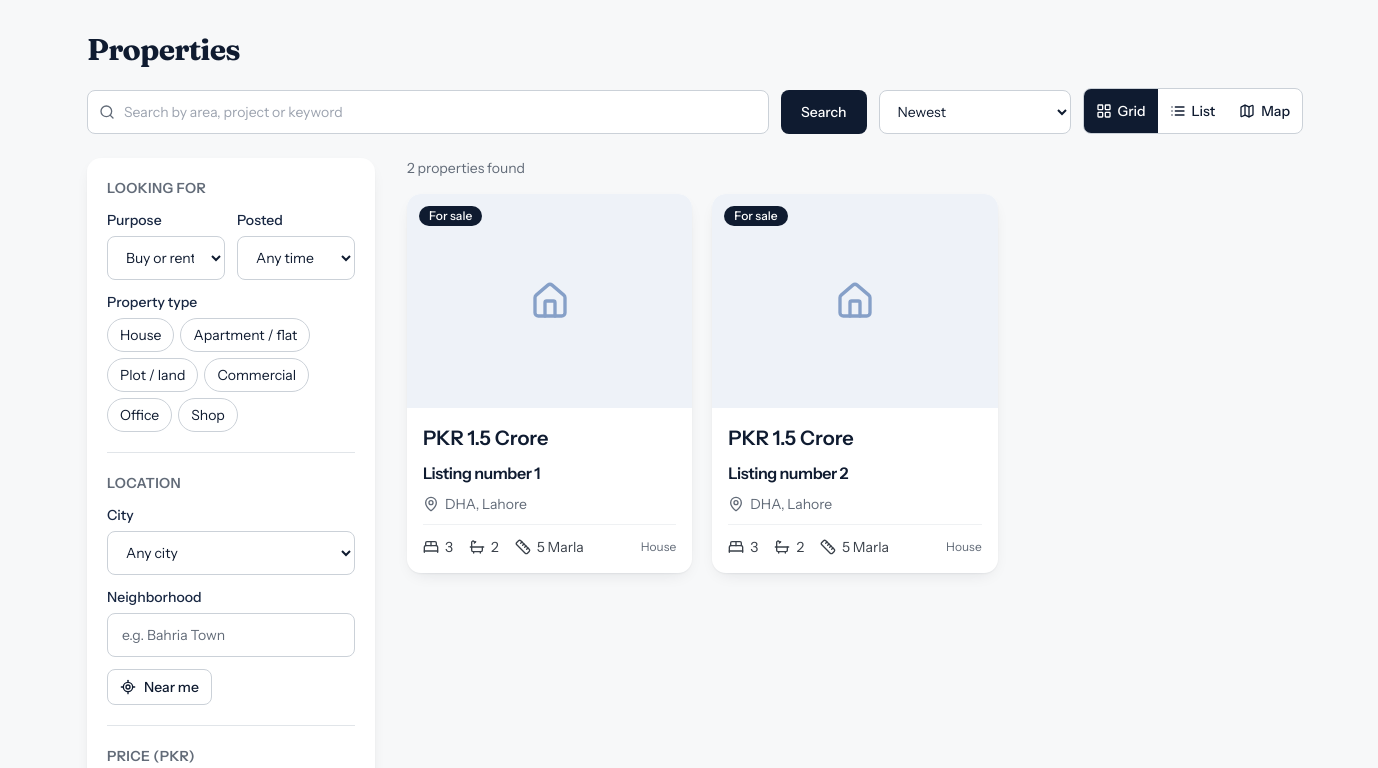
Test case: search page › searching by keyword and changing the view and sort are reflected in the URL
The image size is (1378, 768).
Expected: the link "Listing number 1" is shown, top-left (423, 463), bottom-right (540, 483)
Type "bahria villa" into the search field named "Search properties" at {"x": 428, "y": 112}, box top-left (87, 90), bottom-right (769, 134)
Then press Enter
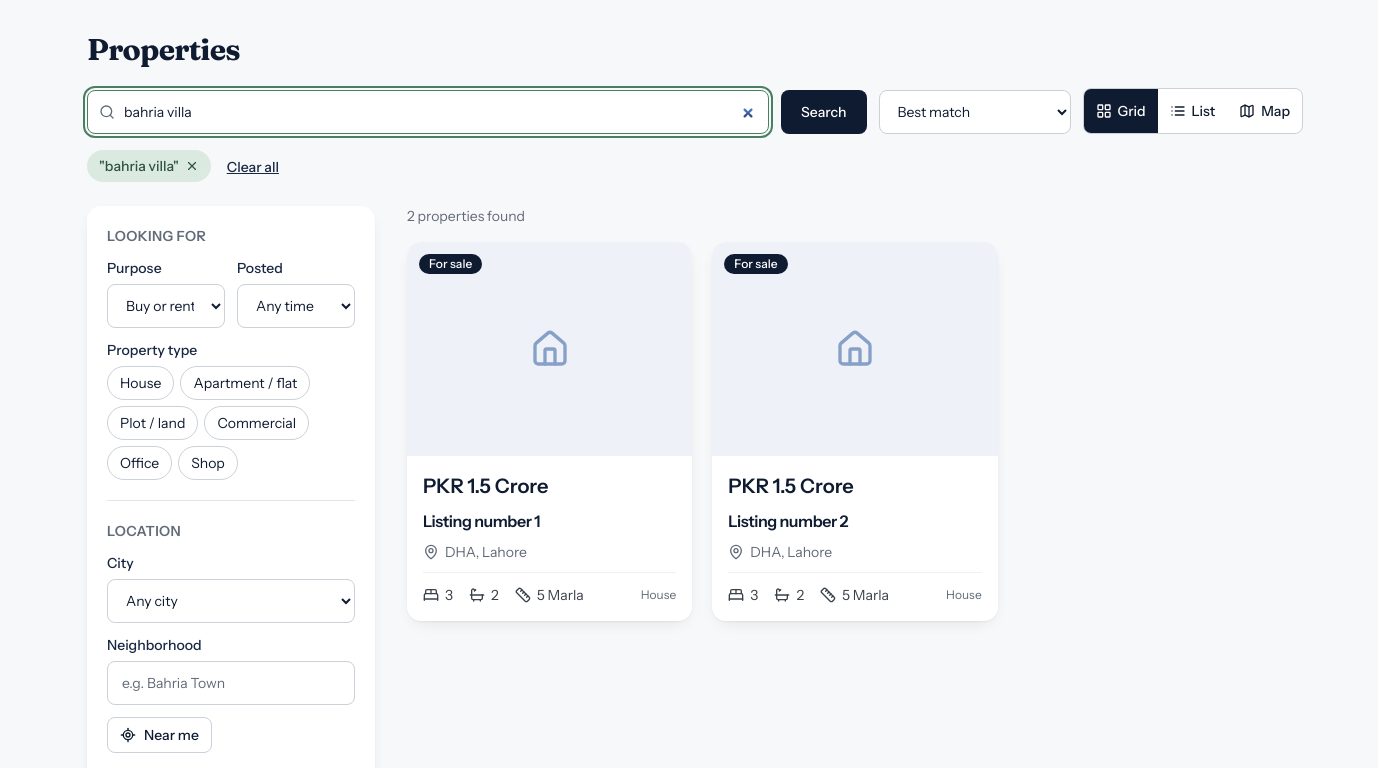
Click the button "List" at {"x": 1192, "y": 111}, box top-left (1158, 89), bottom-right (1227, 133)
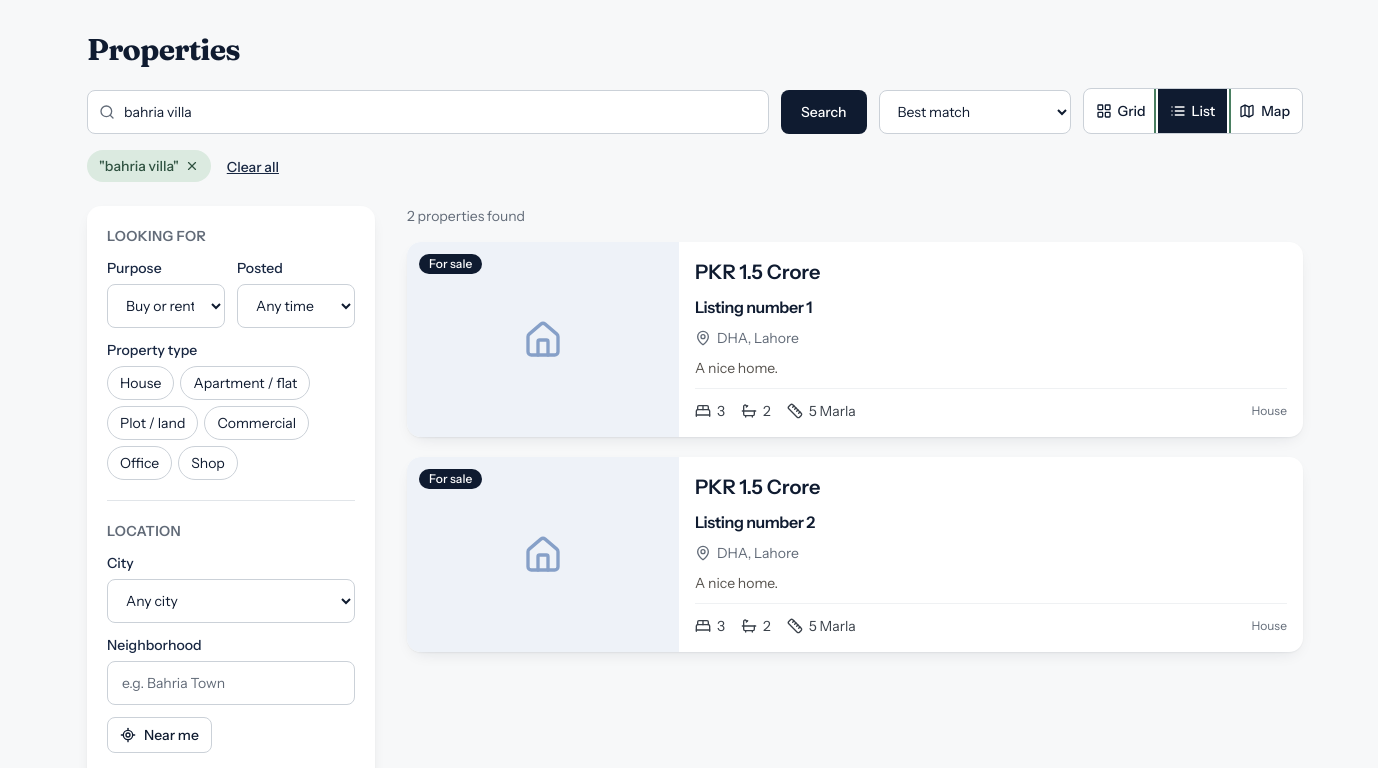
Select "Price: low to high" in the dropdown named "Sort by" at {"x": 974, "y": 112}, box top-left (878, 90), bottom-right (1070, 134)
(page scrolled)
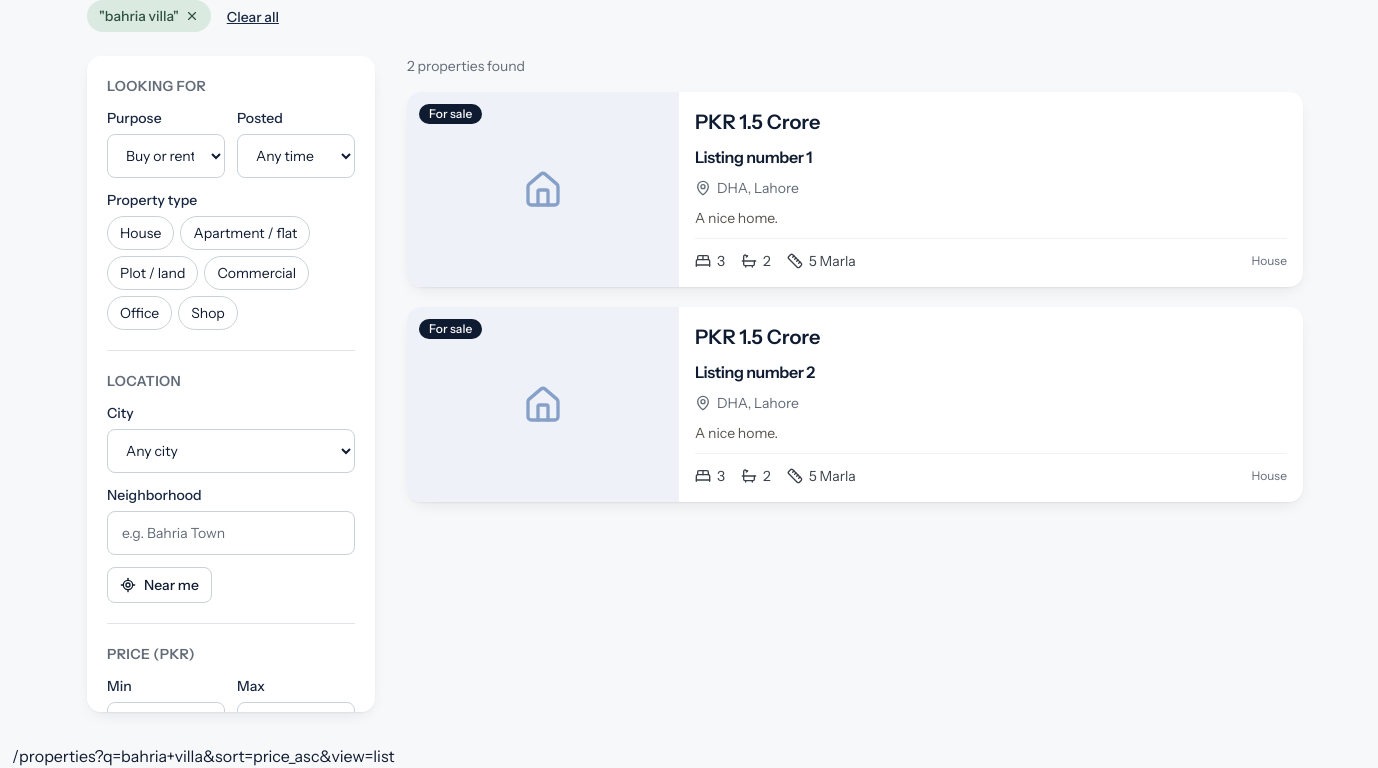
Expected: the text with test id "url" shows "sort=price_asc", top-left (94, 746), bottom-right (394, 766)
